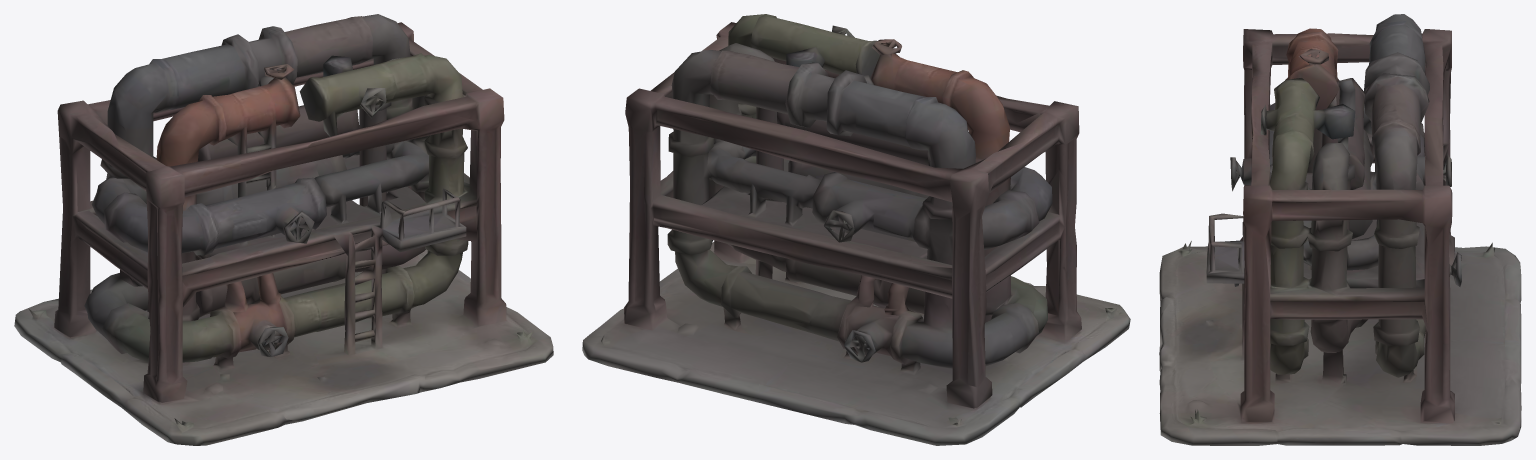
The model's file is refinery_pipes.glb.
3 views of the same model, side by side, from view 1: azimuth 30°, elevation 25°; view 2: azimuth 150°, elevation 25°; view 3: azimuth 270°, elevation 25° (orthographic).
Parts seen in each view (by area): view 1: tripo_node_447bbe2f-50f1-4ccf-9dea-b6199628907c; view 2: tripo_node_447bbe2f-50f1-4ccf-9dea-b6199628907c; view 3: tripo_node_447bbe2f-50f1-4ccf-9dea-b6199628907c.
Part boxes in pixels (<box>): tripo_node_447bbe2f-50f1-4ccf-9dea-b6199628907c: <box>14,14,553,445</box>; tripo_node_447bbe2f-50f1-4ccf-9dea-b6199628907c: <box>582,14,1130,445</box>; tripo_node_447bbe2f-50f1-4ccf-9dea-b6199628907c: <box>1159,14,1521,445</box>.
Bounding box in the file's own units: 1 × 0.7017 × 0.8007.
1 material, 1 textured.
